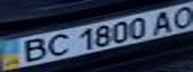0: (127, 15, 154, 39), (109, 19, 133, 44)
1: (72, 25, 96, 51)
8: (93, 23, 115, 48)
A: (148, 8, 181, 35)
B: (12, 35, 54, 64)
C: (39, 32, 75, 58)
O: (166, 3, 193, 29)
